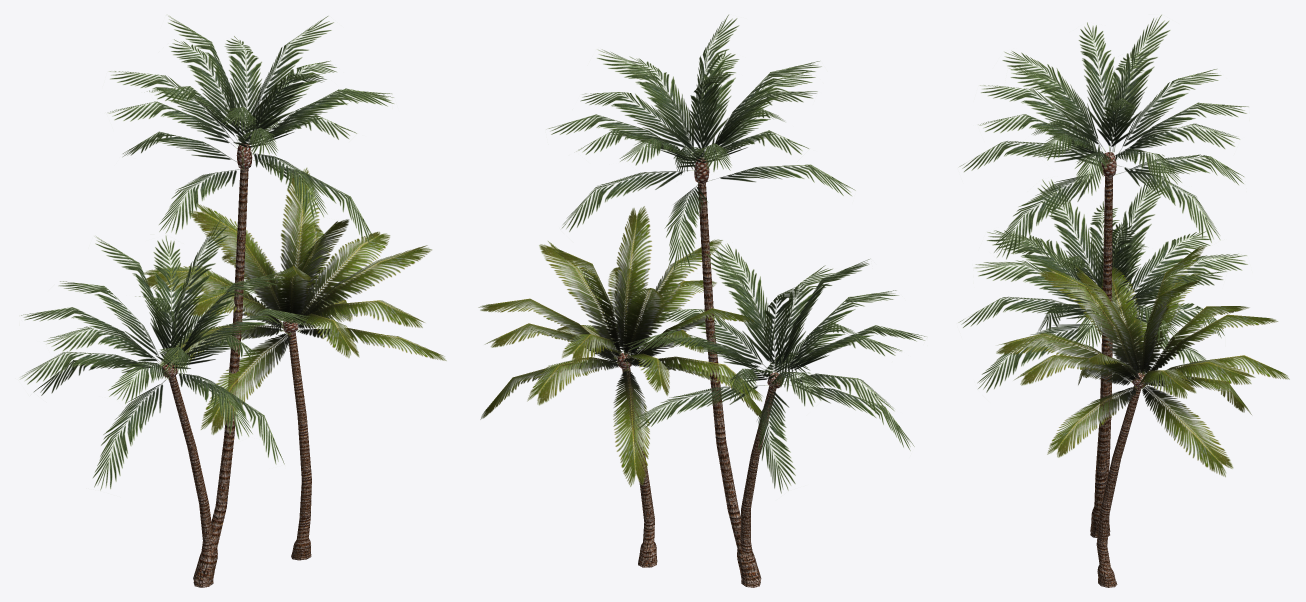
3 views of the same model, side by side, from view 1: azimuth 30°, elevation 25°; view 2: azimuth 150°, elevation 25°; view 3: azimuth 270°, elevation 25° (orthographic). The views are drawn at different scales.
Parts seen in each view (by area): view 1: short_palm001, palmtree, short_palm; view 2: palmtree, short_palm001, short_palm; view 3: palmtree, short_palm001, short_palm.
Part boxes in pixels (x1,y1,x2,y2): short_palm001: [143, 168, 446, 560]; palmtree: [108, 15, 394, 583]; short_palm: [20, 220, 310, 587]; palmtree: [548, 14, 855, 583]; short_palm001: [478, 206, 762, 567]; short_palm: [625, 241, 926, 587]; palmtree: [959, 14, 1248, 534]; short_palm001: [996, 245, 1289, 587]; short_palm: [958, 173, 1247, 537].
Bounding box in the file's own units: 407 × 529 × 308.
1 material, 1 textured.
